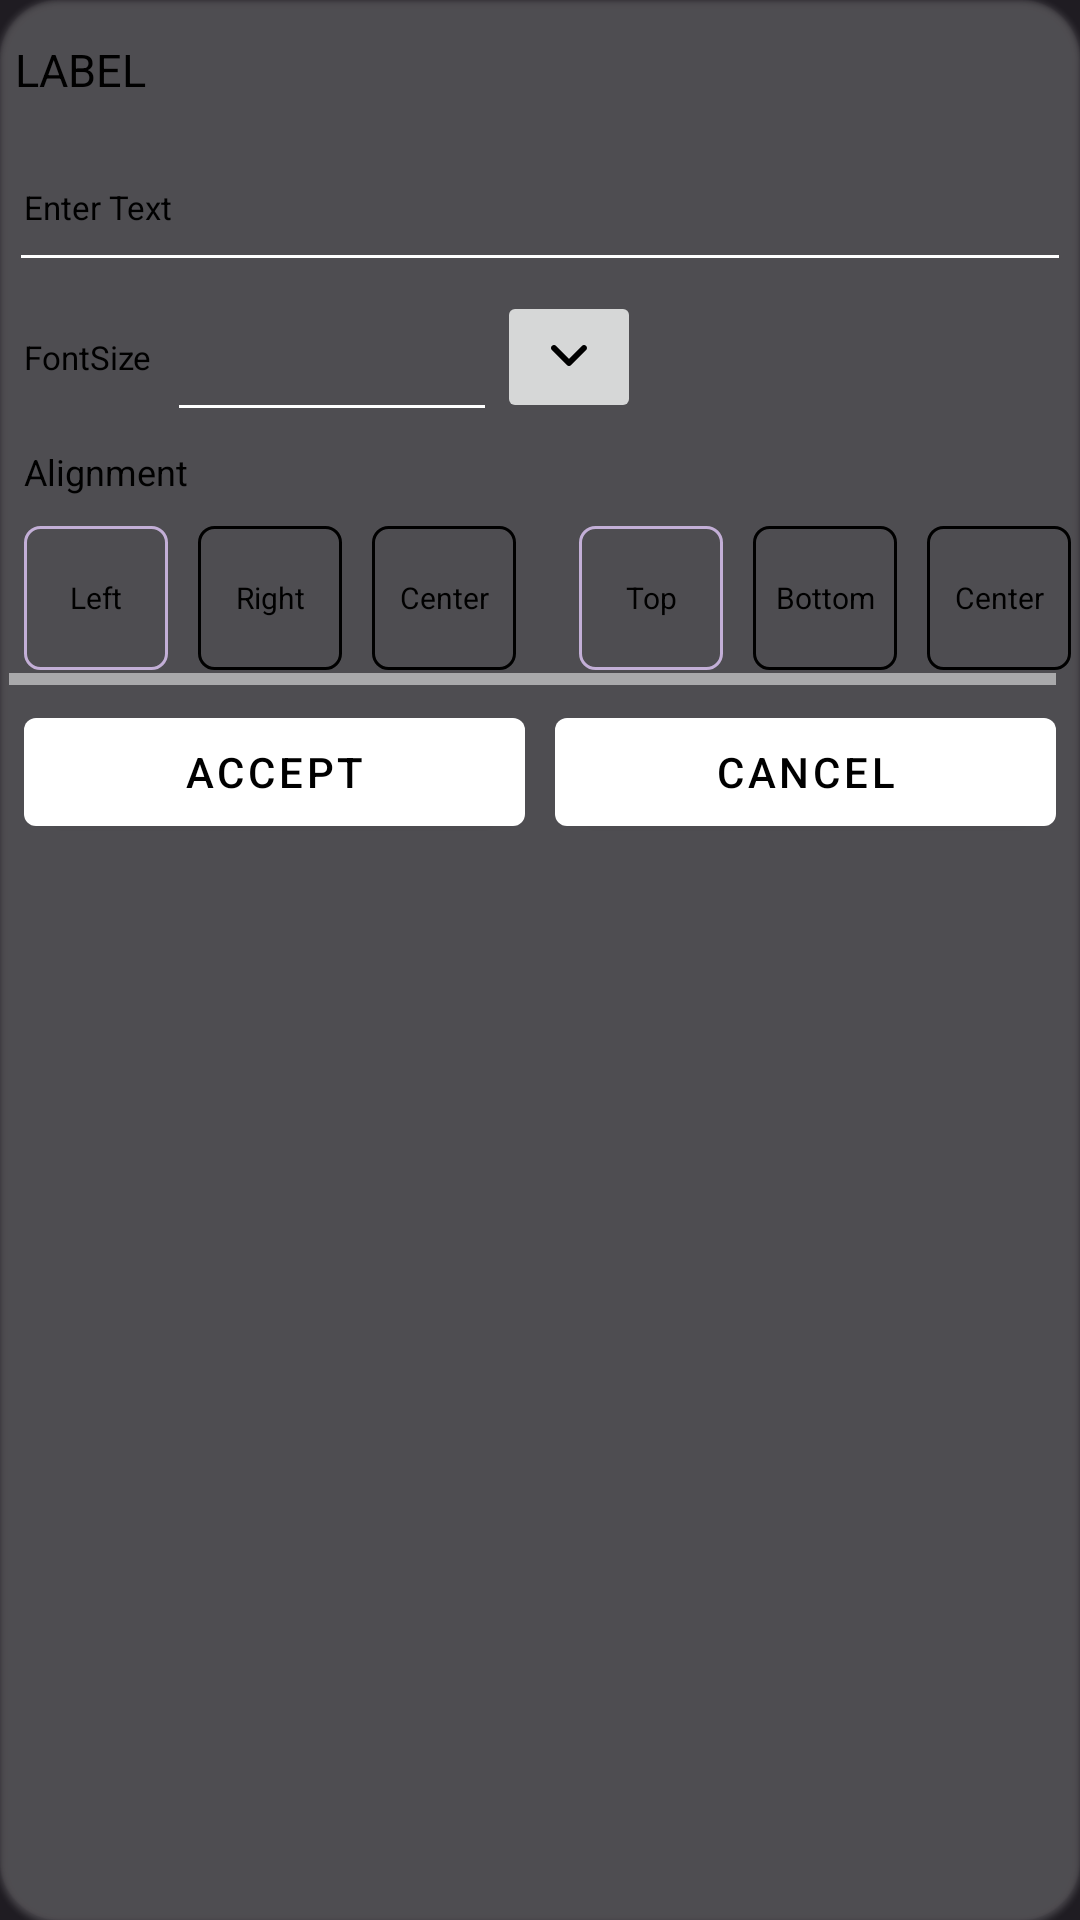

Point at icon controls on the screen. Image size 1080 × 1920, points as [x,y].
dropdown: [569,357]
